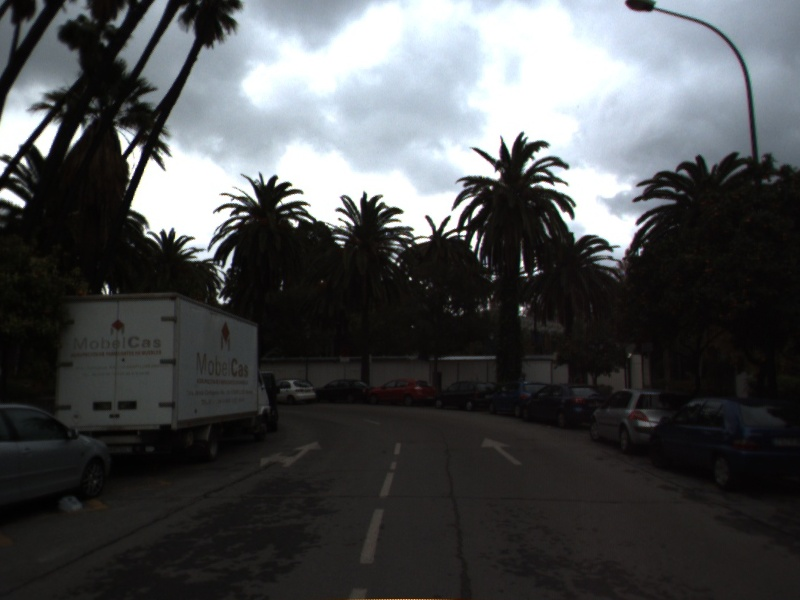STRAIGHT: (479, 435, 525, 466)
STRAIGHT_LEFT: (258, 439, 324, 470)
